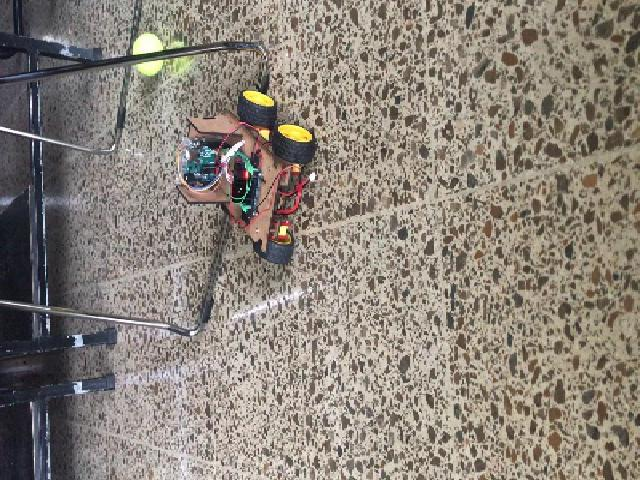Ball: (130, 32, 166, 77)
